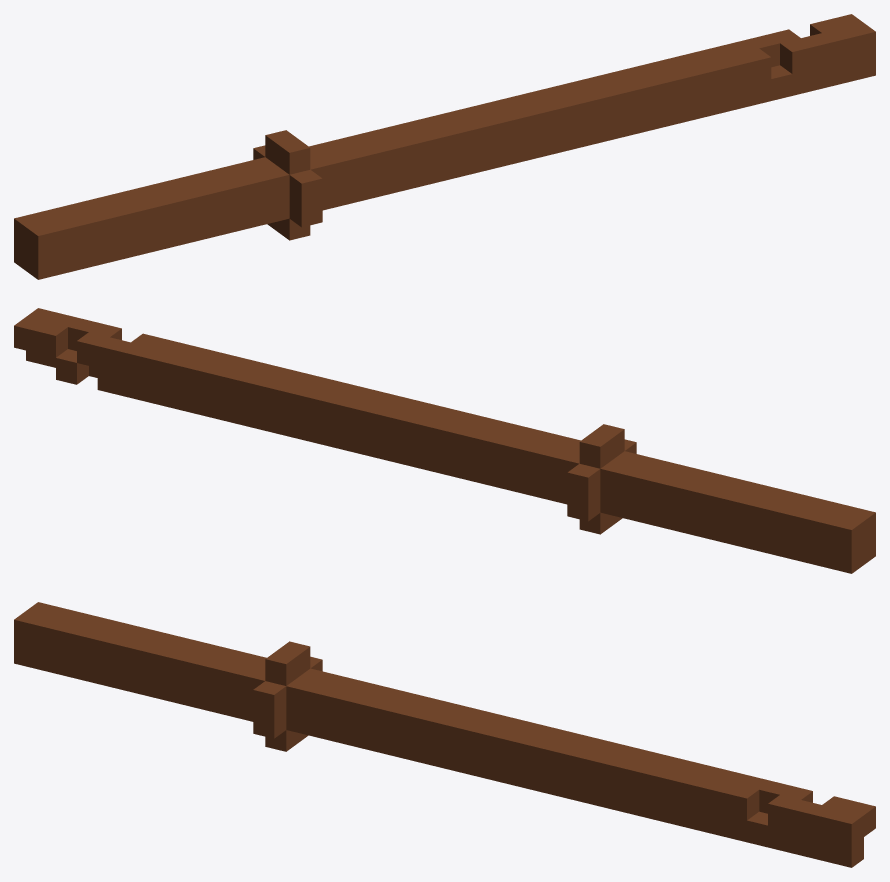
Rendered from stick.glb.
3 renders of one model, top to bottom at view 1: azimuth 30°, elevation 25°; view 2: azimuth 150°, elevation 25°; view 3: azimuth 330°, elevation 25°, orthographic.
Visible parts, largest first — view 1: material:turnedStock; view 2: material:turnedStock; view 3: material:turnedStock.
Part boxes in pixels (x1,y1,x2,y2): material:turnedStock: [14, 14, 875, 279]; material:turnedStock: [14, 308, 875, 573]; material:turnedStock: [14, 602, 875, 867].
Size of the model in its own units: 0.4 by 0.04 by 0.04.
